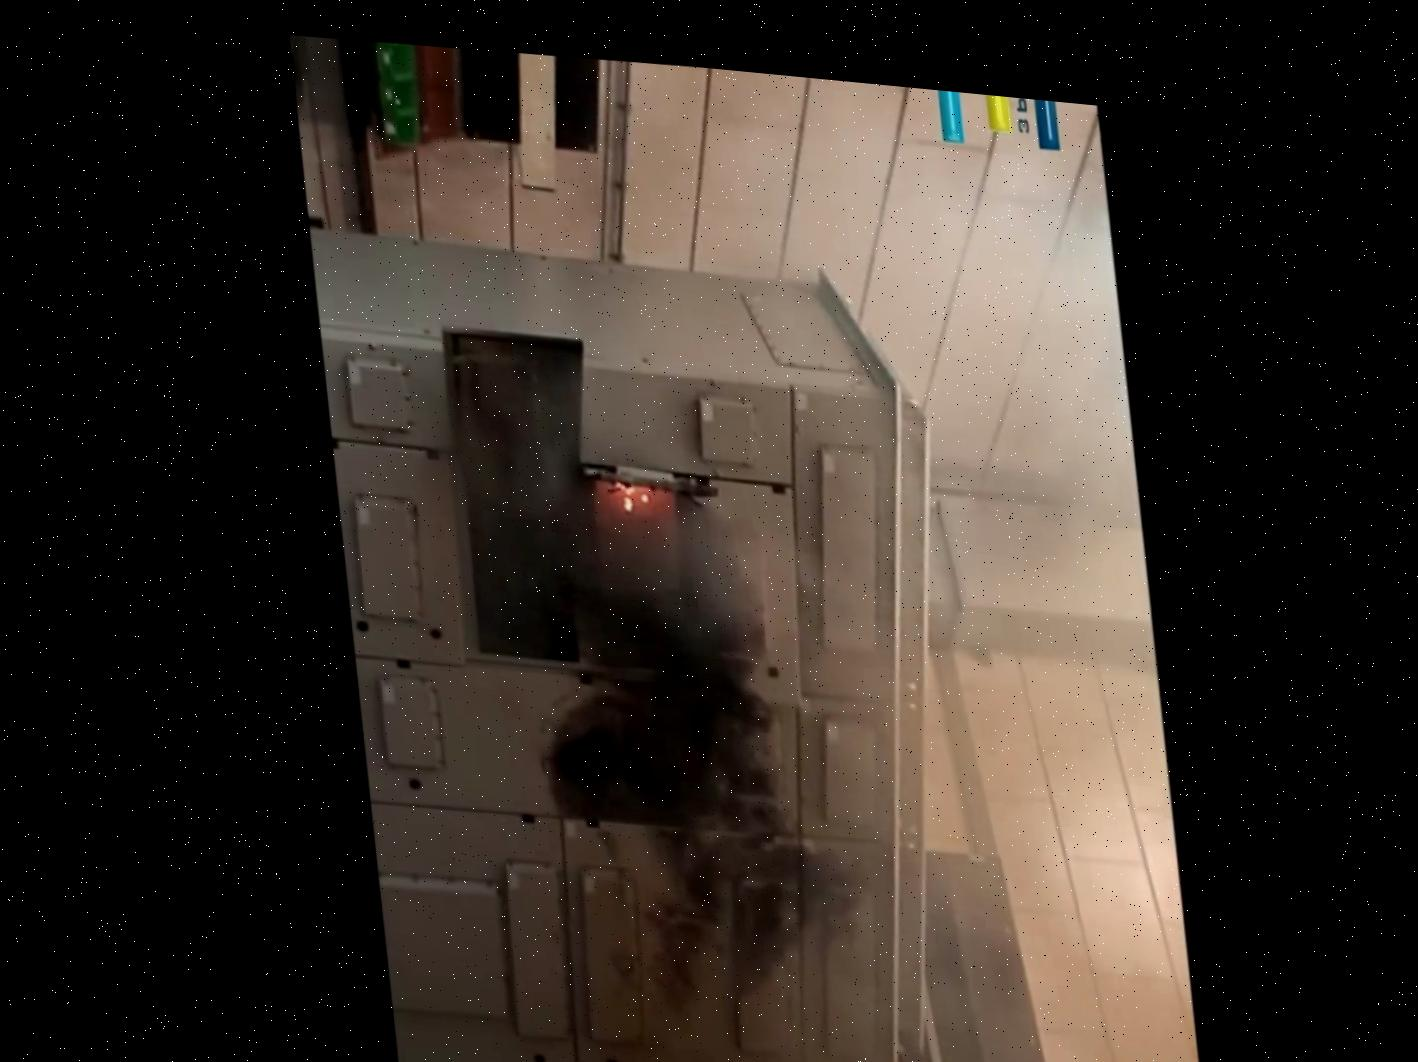fire: (460, 415, 826, 533)
smoke: (462, 535, 858, 913)
